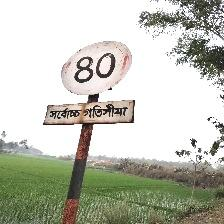Speed-limit: (46, 39, 135, 125)
